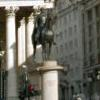Statue: (24, 2, 77, 61)
